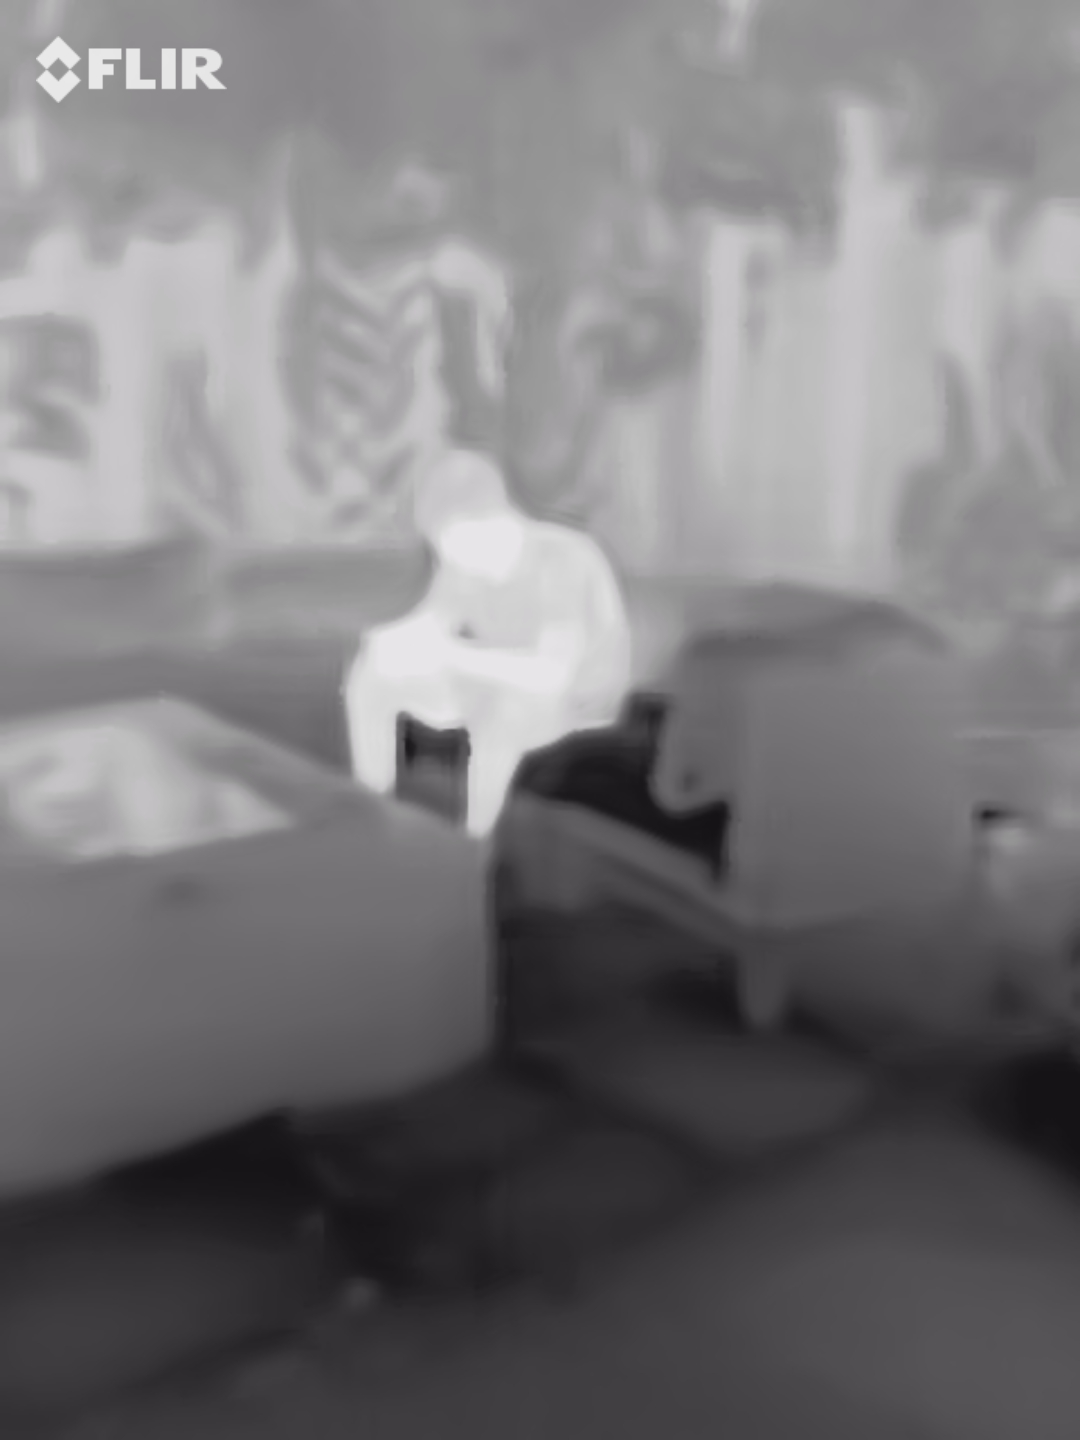head: (413, 444, 515, 584)
